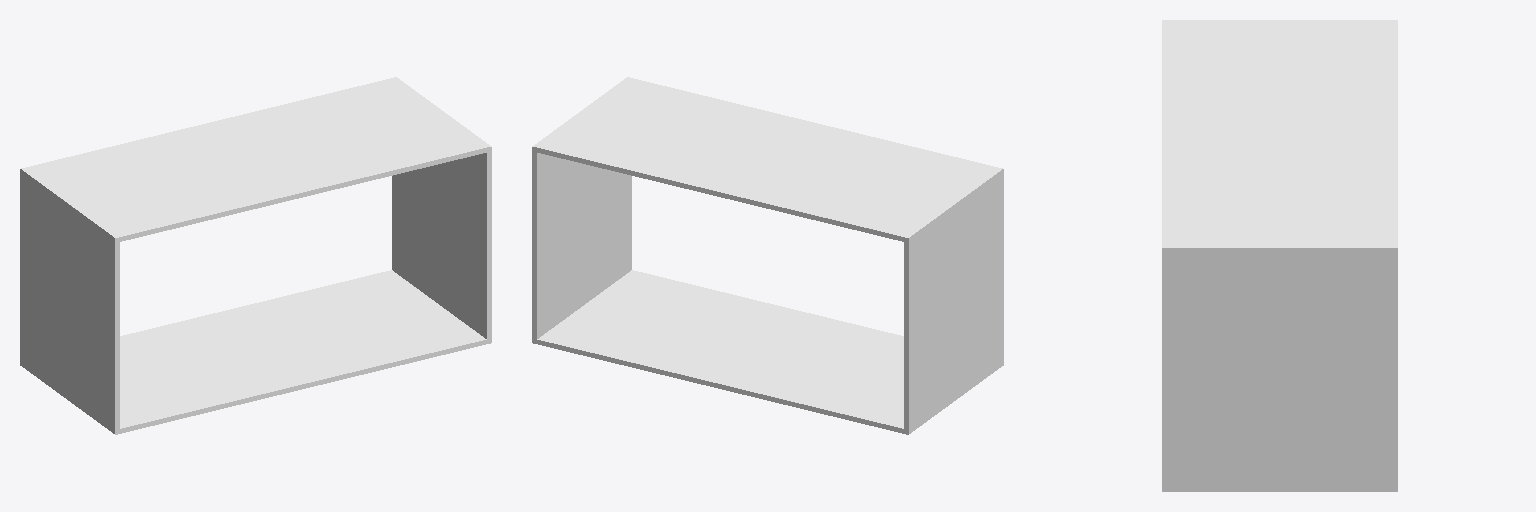
The robot description file, URDF, robot "dian_ji_shi":
<robot
  name="dian_ji_shi">
  <link
    name="dian_ji_shi">
    <inertial>
      <origin
        xyz="2.8027E-15 -1.75 3.29193055959458E-16"
        rpy="0 0 0" />
      <mass
        value="8260" />
      <inertia
        ixx="32931.6166666666"
        ixy="-8.7041485130612E-12"
        ixz="-1.51429707893428E-11"
        iyy="95871.0666666665"
        iyz="-4.21086332622995E-12"
        izz="79803.6166666665" />
    </inertial>
    <visual>
      <origin
        xyz="0 0 0"
        rpy="1.5707963267949 0 0" />
      <geometry>
        <mesh
          filename="package://dian_ji_shi/meshes/dian_ji_shi.STL" />
      </geometry>
      <material
        name="">
        <color
          rgba="1 1 1 1" />
      </material>
    </visual>
    <collision>
      <origin
        xyz="0 0 0"
        rpy="1.5707963267949 0 0" />
      <geometry>
        <mesh
          filename="package://dian_ji_shi/meshes/dian_ji_shi.STL" />
      </geometry>
    </collision>
  </link>
</robot>

--- Render facts (derived) ---
3 views of the same robot in one strip: view 1: azimuth 30°, elevation 25°; view 2: azimuth 150°, elevation 25°; view 3: azimuth 270°, elevation 25° (orthographic).
Robot: dian_ji_shi — 1 links, 0 joints (none); root link dian_ji_shi; default pose: all joints at 0.
Visible links, largest first — view 1: dian_ji_shi; view 2: dian_ji_shi; view 3: dian_ji_shi.
Link boxes in pixels (x1,y1,x2,y2): dian_ji_shi: [20, 77, 491, 434]; dian_ji_shi: [532, 77, 1003, 434]; dian_ji_shi: [1162, 20, 1397, 491].
Bounding box of the posed robot: 8 × 3.5 × 4 m (x, y, z).
Meshes: 1 distinct files referenced, 1 mesh visuals loaded (1 binary STL).